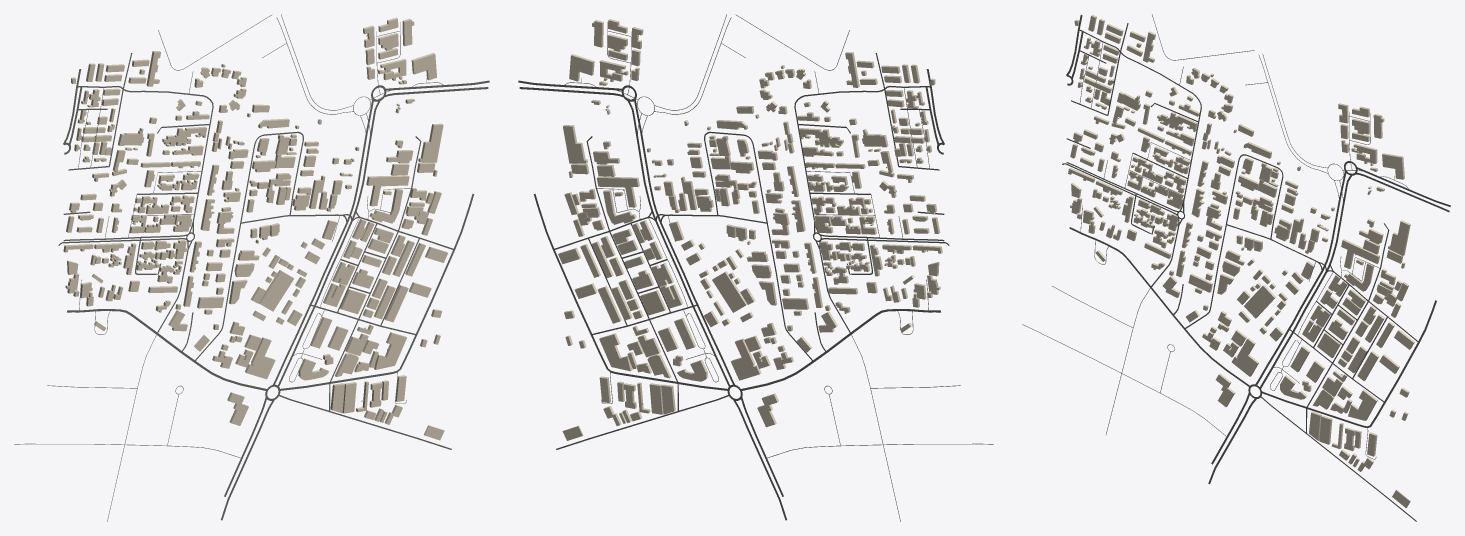
File: historic-palestine-04_22_3459_3166.glb
3 views of the same model, side by side, from view 1: azimuth 30°, elevation 25°; view 2: azimuth 150°, elevation 25°; view 3: azimuth 330°, elevation 25° (orthographic). The views are drawn at different scales.
Visible parts, largest first — view 1: Road התעשיה.001, Road התעשיה, Building_.309, Building_.273, Building_.253, Building_.016, Road צה"ל, Building_.131, Building_.034; view 2: Road התעשיה.001, Road התעשיה, Building_.309, Building_.273, Building_.253, Building_.016, Road צה"ל, Building_.131, Building_.034; view 3: Road התעשיה.001, Road התעשיה, Building_.273, Building_.309, Road צה"ל, Building_.253, Building_.016.
Boxes of the visible parts, x1,y1,x2,y2 form: Road התעשיה.001: (278, 100, 380, 386); Road התעשיה: (273, 99, 373, 385); Building_.309: (259, 270, 293, 311); Building_.273: (245, 337, 275, 379); Building_.253: (374, 332, 406, 369); Building_.016: (366, 175, 409, 206); Road צה"ל: (67, 309, 266, 390); Building_.131: (418, 123, 443, 162); Building_.034: (162, 126, 206, 146); Road התעשיה.001: (627, 100, 730, 387); Road התעשיה: (634, 99, 734, 385); Building_.309: (712, 271, 747, 312); Building_.273: (730, 338, 761, 380); Building_.253: (599, 333, 632, 371); Building_.016: (596, 176, 639, 207); Road צה"ל: (740, 309, 940, 391); Building_.131: (562, 125, 587, 163); Building_.034: (799, 128, 843, 147); Road התעשיה.001: (1259, 174, 1352, 388); Road התעשיה: (1255, 171, 1346, 385); Building_.273: (1231, 338, 1258, 376); Building_.309: (1244, 284, 1275, 318); Road צה"ל: (1069, 227, 1250, 387); Building_.253: (1348, 389, 1377, 420); Building_.016: (1341, 239, 1379, 268).
Size of the model in its own units: 1212 by 1233 by 8.7.
